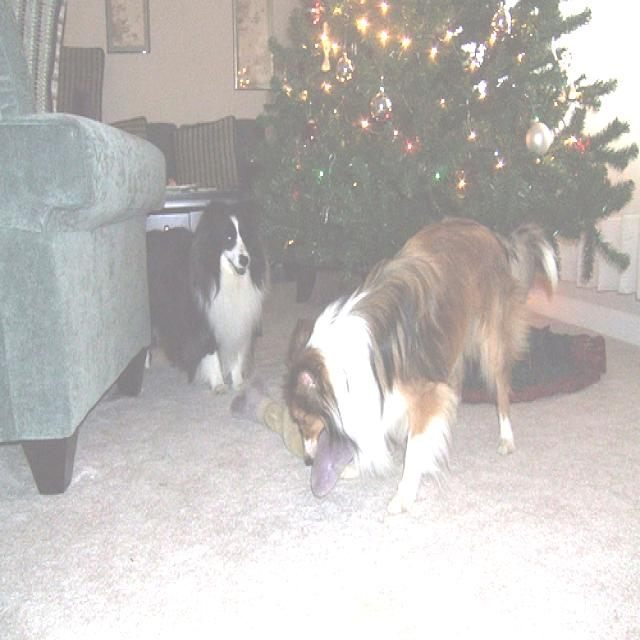Dog: (300, 176, 525, 509), (166, 146, 270, 407)
